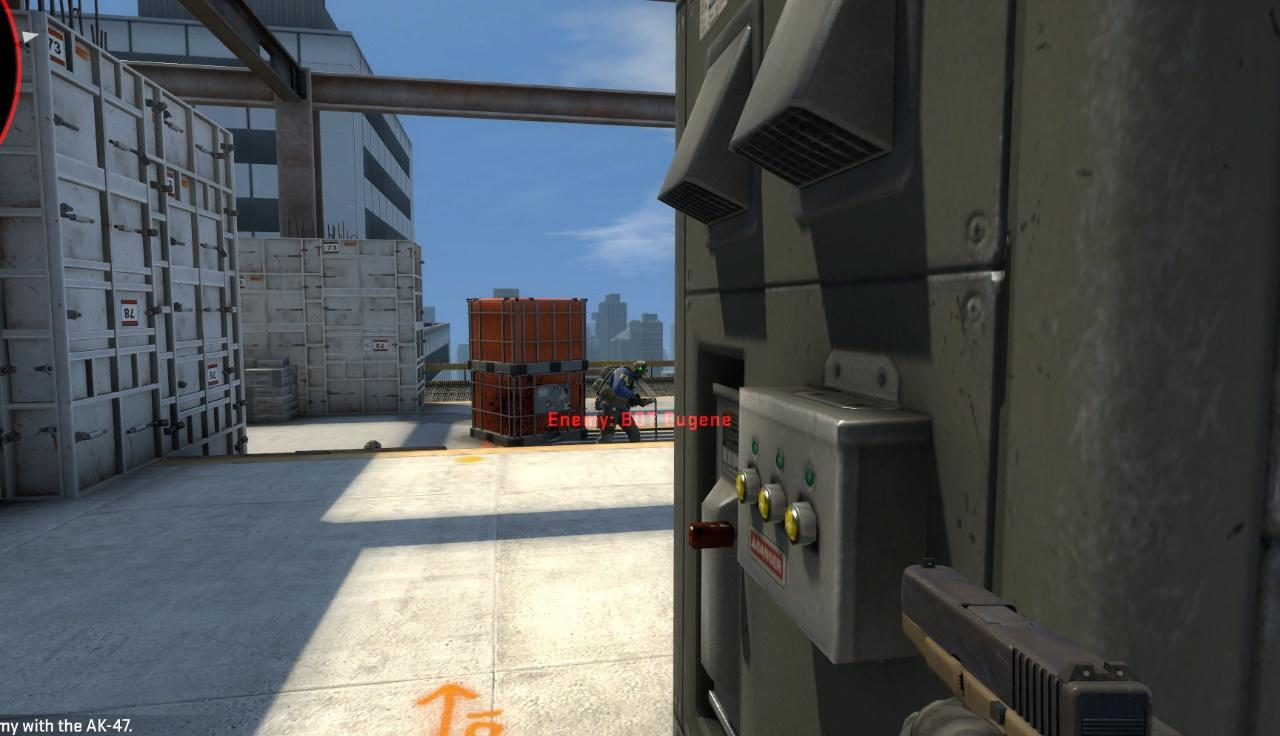ct: (597, 359, 654, 441)
cthead: (632, 360, 649, 380)
pistol: (900, 558, 1155, 731)
